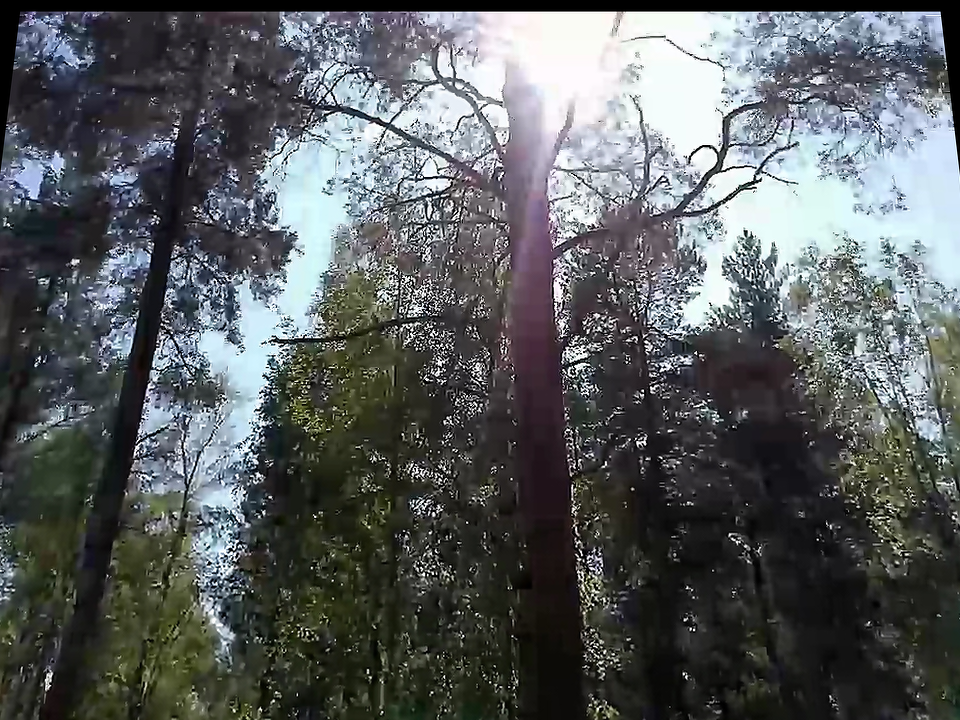branch: (258, 303, 498, 348), (414, 213, 512, 233), (558, 349, 598, 372)
trunk: (491, 512, 597, 713), (500, 294, 578, 527), (487, 69, 559, 311)
